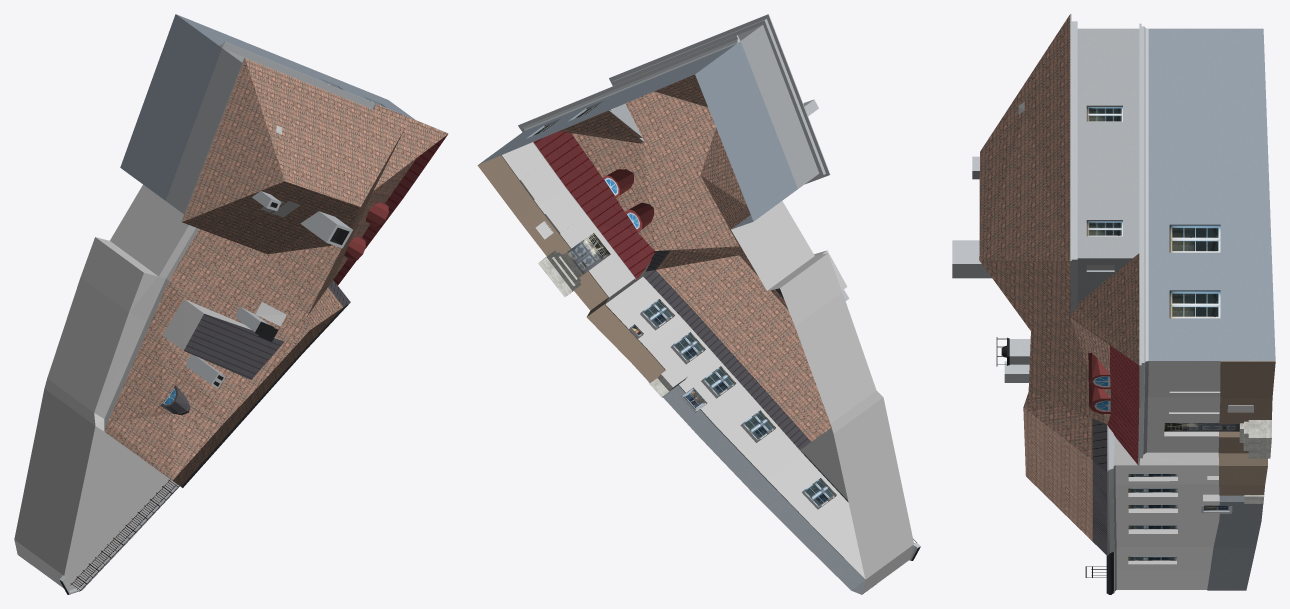
The model's file is Olevimagi_13.obj.
3 renders of one model, left to right at view 1: azimuth 30°, elevation 25°; view 2: azimuth 150°, elevation 25°; view 3: azimuth 270°, elevation 25°, orthographic. The views are drawn at different scales.
Visible parts, largest first — view 1: Olevim2gi_13; view 2: Olevim2gi_13; view 3: Olevim2gi_13.
Boxes of the visible parts, x1,y1,x2,y2 form: Olevim2gi_13: (14, 14, 448, 594); Olevim2gi_13: (477, 14, 920, 594); Olevim2gi_13: (952, 14, 1275, 594).
Size of the model in its own units: 25.81 by 31.38 by 13.53.
